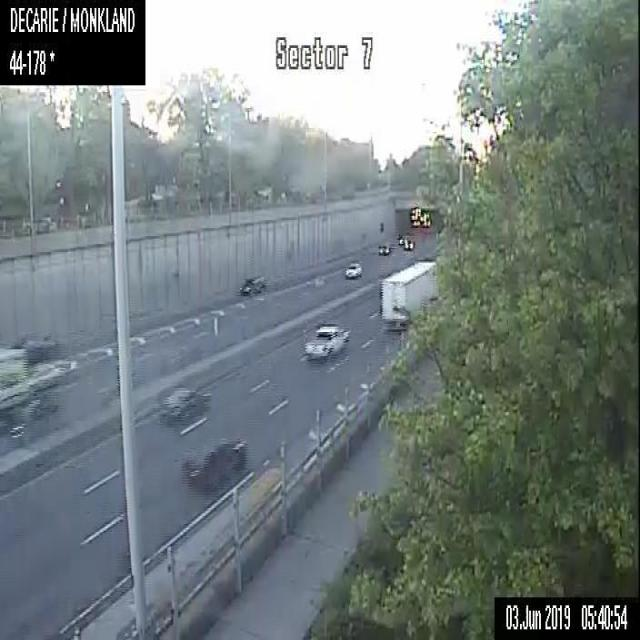vehicle: (0, 337, 57, 427), (379, 259, 437, 329), (187, 440, 244, 492), (161, 389, 210, 427), (305, 324, 347, 357), (240, 276, 263, 293), (344, 263, 361, 276), (378, 243, 390, 253), (403, 239, 414, 249), (398, 234, 408, 244), (421, 223, 429, 233), (412, 218, 419, 226)
